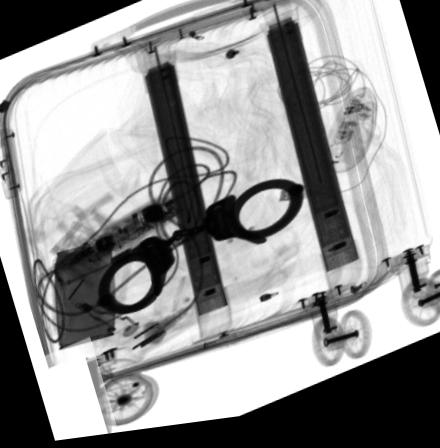HandCuffs: (93, 183, 307, 319)
